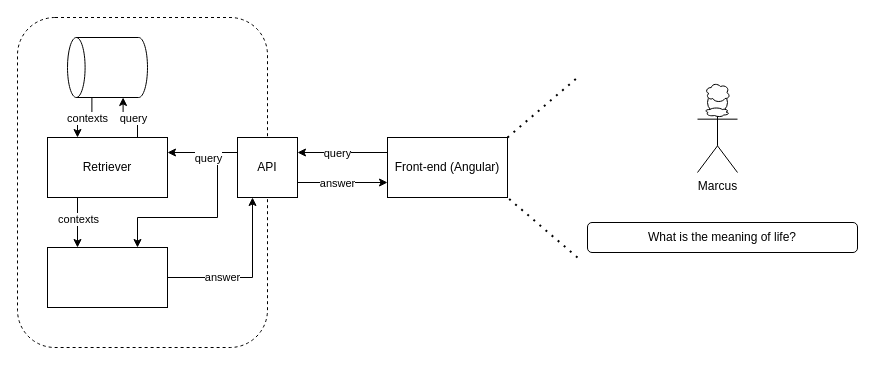
Some shapes in this 875 by 365 pixel diagram are drawn without their labels. Here are the shapes that lost their labels. From the top down, the centre of each, then its label:
the point at 107,67: Elastic
the point at 107,277: Reader
